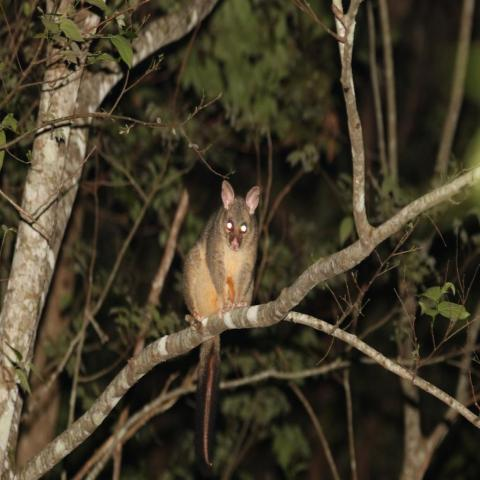small_animal: (180, 178, 262, 464)
